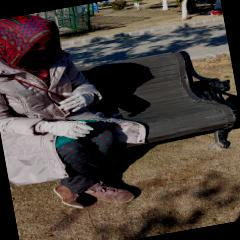gloved: (47, 117, 93, 144), (58, 88, 96, 114)
